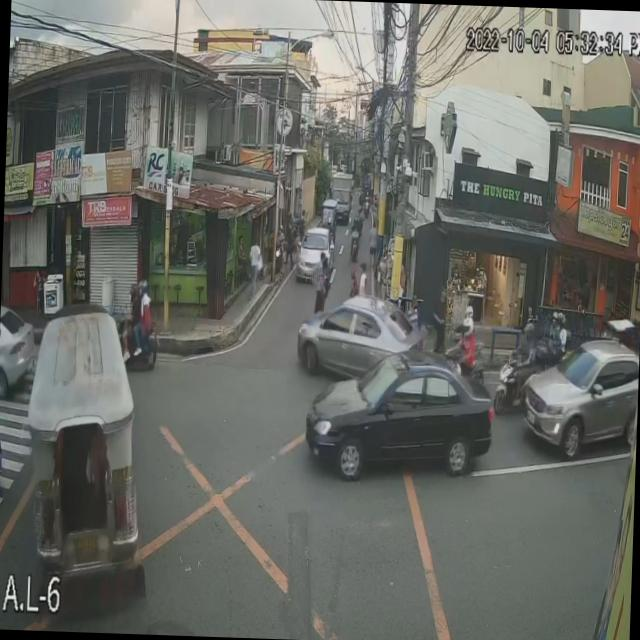full: (461, 314, 474, 336)
